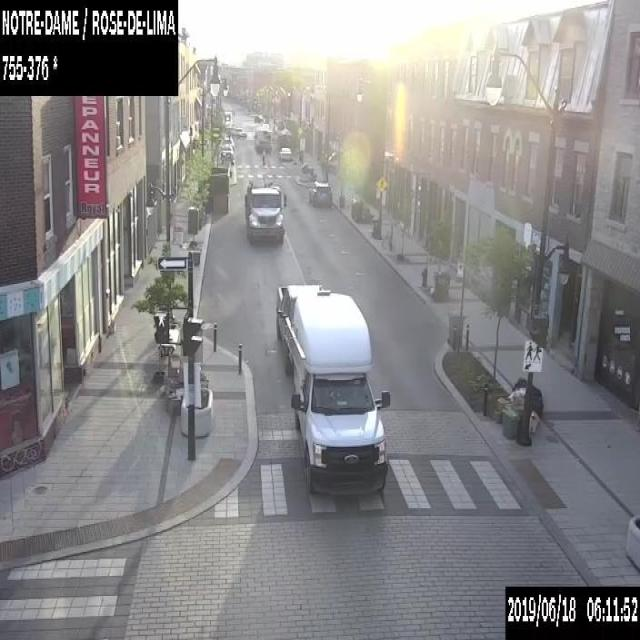pedestrian: (261, 149, 265, 165)
vehicle: (276, 283, 389, 496), (244, 175, 286, 244), (308, 180, 331, 206), (254, 126, 270, 152), (219, 144, 234, 162), (278, 146, 291, 160), (220, 137, 233, 148), (234, 127, 247, 137), (254, 115, 262, 122)
